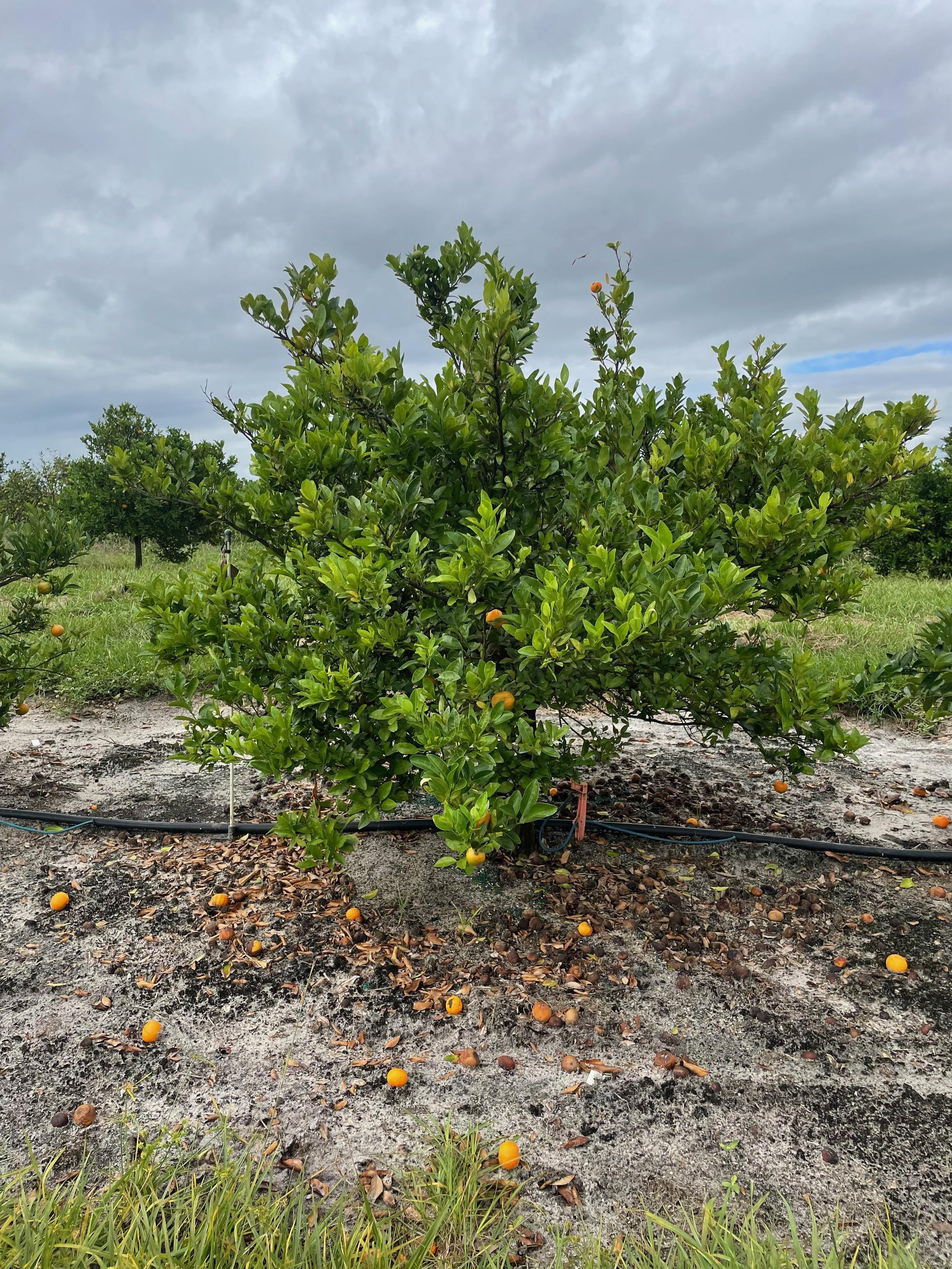fruit_on_ground: (488, 688, 518, 715), (481, 605, 509, 633), (462, 843, 489, 868), (35, 579, 54, 597), (14, 700, 31, 718), (587, 278, 605, 295), (772, 778, 790, 795), (49, 621, 66, 638)
fruit_on_tree: (495, 1138, 522, 1171), (73, 1100, 98, 1128), (139, 1019, 163, 1044), (884, 951, 910, 974), (385, 1066, 409, 1090), (530, 1000, 553, 1024), (441, 993, 464, 1016), (653, 1048, 677, 1069), (458, 1047, 481, 1068), (559, 1052, 581, 1073), (48, 890, 70, 911), (208, 890, 231, 908), (496, 1052, 517, 1071), (562, 1004, 581, 1024), (49, 1108, 68, 1128), (343, 904, 363, 923), (819, 1146, 838, 1165), (928, 883, 949, 900), (217, 924, 236, 942), (245, 937, 263, 956), (576, 919, 594, 937), (931, 812, 950, 829), (672, 1063, 691, 1078), (779, 923, 796, 939), (767, 907, 784, 923), (726, 947, 744, 962), (546, 783, 561, 799), (859, 910, 874, 925), (833, 954, 849, 968), (912, 783, 927, 797), (749, 883, 765, 896), (684, 815, 701, 827), (629, 771, 643, 784)
